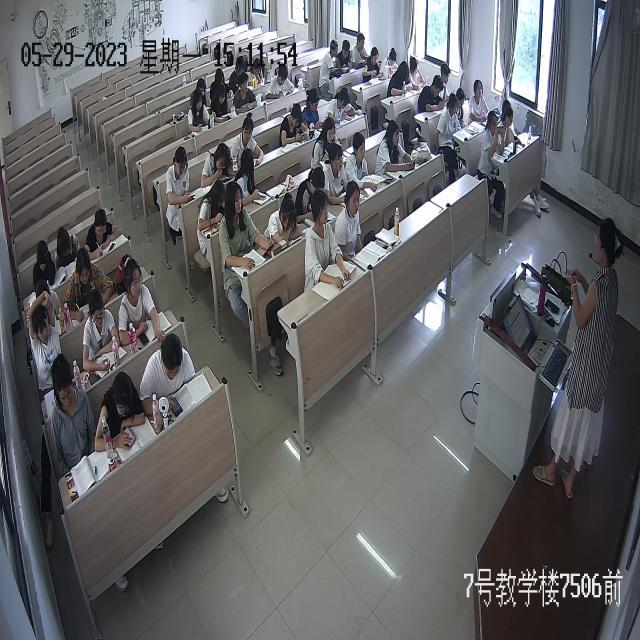distracted: (47, 364, 100, 469), (234, 148, 266, 208), (53, 228, 80, 268), (317, 38, 341, 82), (337, 40, 354, 75)
focused: (304, 190, 352, 285), (116, 259, 163, 344), (65, 248, 116, 318), (26, 304, 65, 388), (81, 292, 121, 371), (319, 142, 356, 206), (337, 181, 365, 260), (293, 166, 331, 222), (229, 114, 267, 168), (346, 135, 378, 194), (87, 209, 123, 259), (195, 181, 228, 235), (29, 240, 60, 295), (310, 118, 342, 168), (28, 278, 61, 318), (232, 73, 262, 115), (418, 74, 450, 112), (263, 65, 296, 100), (468, 80, 491, 125), (388, 58, 414, 96), (440, 94, 462, 137), (498, 106, 519, 150), (211, 84, 233, 125), (227, 54, 253, 88), (436, 63, 455, 103), (350, 33, 371, 66), (383, 47, 402, 79), (452, 88, 467, 128), (364, 47, 380, 80), (211, 67, 229, 96), (250, 56, 268, 84)
sleep: (263, 194, 308, 242)
using_phone: (221, 184, 276, 276), (90, 373, 149, 458), (139, 334, 195, 421), (377, 119, 418, 179), (166, 146, 199, 208), (201, 140, 238, 192), (481, 111, 508, 167), (278, 102, 313, 145), (320, 89, 359, 126), (300, 91, 332, 134), (187, 89, 216, 134), (407, 56, 430, 91)
